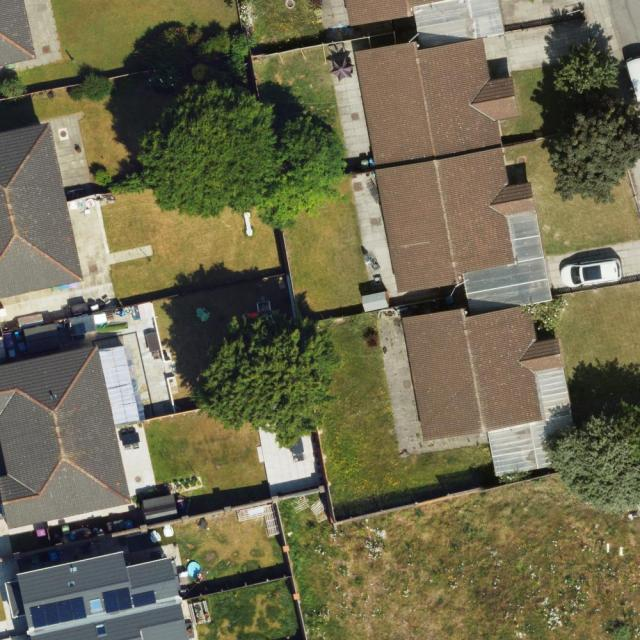roof: (345, 0, 579, 476), (0, 344, 131, 529), (15, 552, 190, 640), (0, 122, 82, 299), (0, 0, 36, 67)
skylight: (88, 599, 103, 616), (94, 623, 109, 637)
solar: (31, 595, 87, 628), (103, 586, 157, 613)
